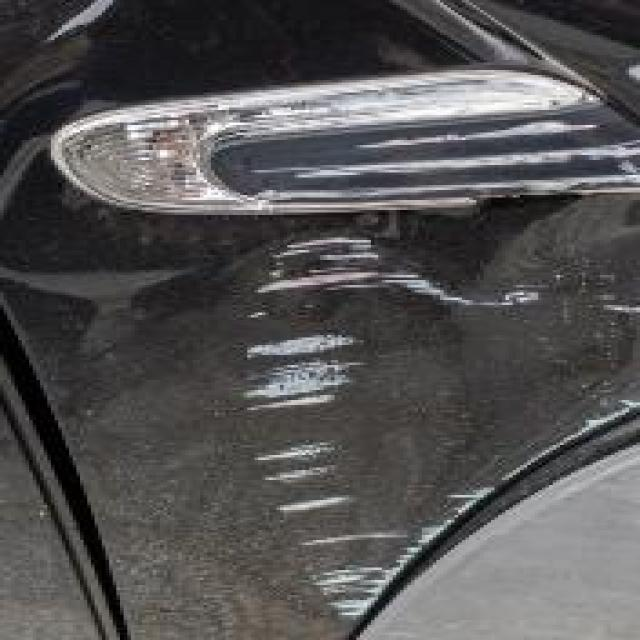Bumper: (218, 220, 633, 640)
